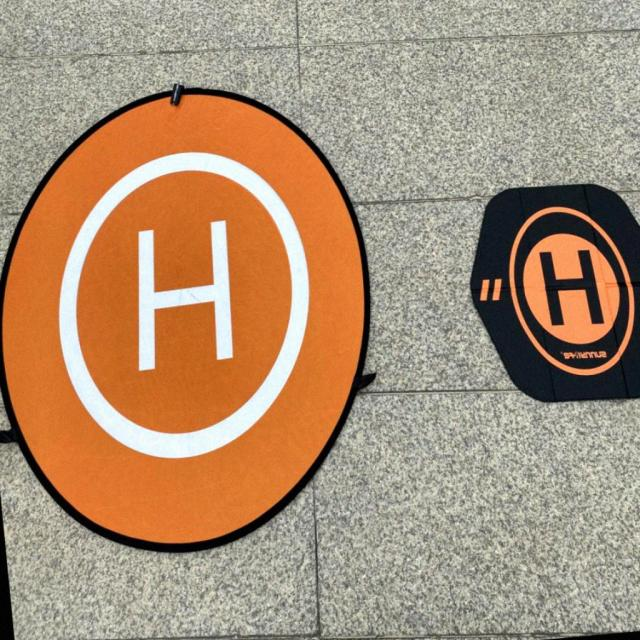helipad: (53, 143, 313, 464), (507, 202, 638, 379)
